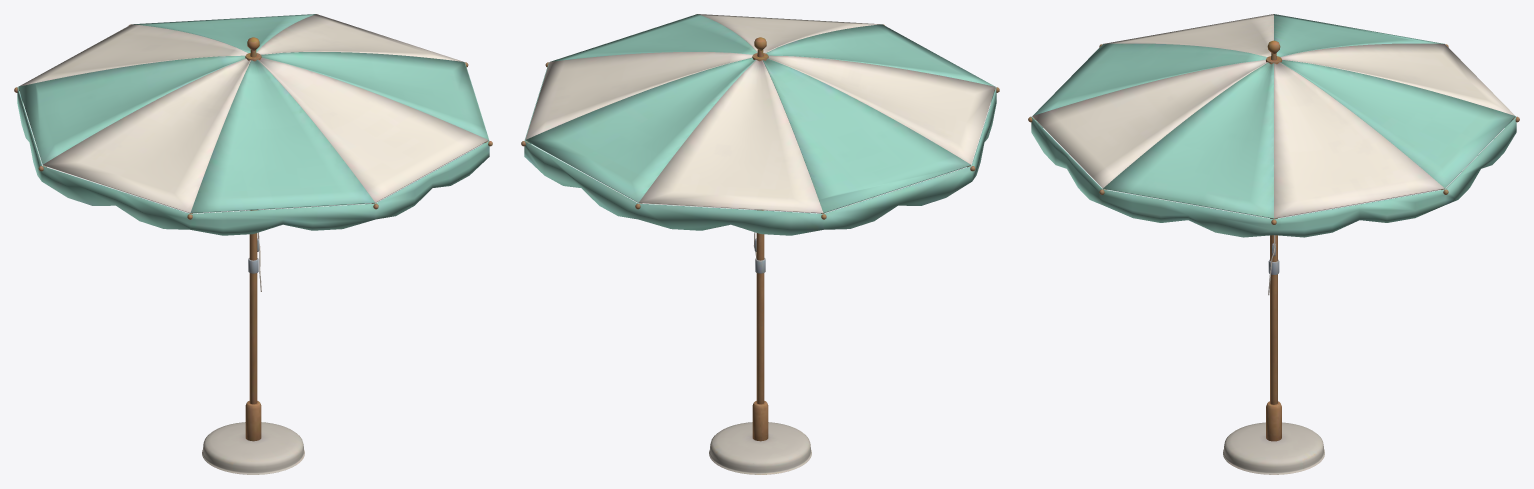
File: patio-umbrella.glb
The picture shows the model from 3 angles, left to right: view 1: azimuth 30°, elevation 25°; view 2: azimuth 150°, elevation 25°; view 3: azimuth 270°, elevation 25°; orthographic projection.
Visible parts, largest first — view 1: patio-umbrella_canopy, patio-umbrella_body; view 2: patio-umbrella_canopy, patio-umbrella_body; view 3: patio-umbrella_canopy, patio-umbrella_body.
Part boxes in pixels (left/top/right/bottom): patio-umbrella_canopy: left=14, top=14, right=492, bottom=235; patio-umbrella_body: left=202, top=209, right=304, bottom=474; patio-umbrella_canopy: left=521, top=14, right=999, bottom=235; patio-umbrella_body: left=709, top=209, right=811, bottom=474; patio-umbrella_canopy: left=1028, top=14, right=1519, bottom=237; patio-umbrella_body: left=1223, top=218, right=1324, bottom=474.
Size of the model in its own units: 2.81 by 2.6 by 2.81.
Materials: 2 (2 with a texture image).
